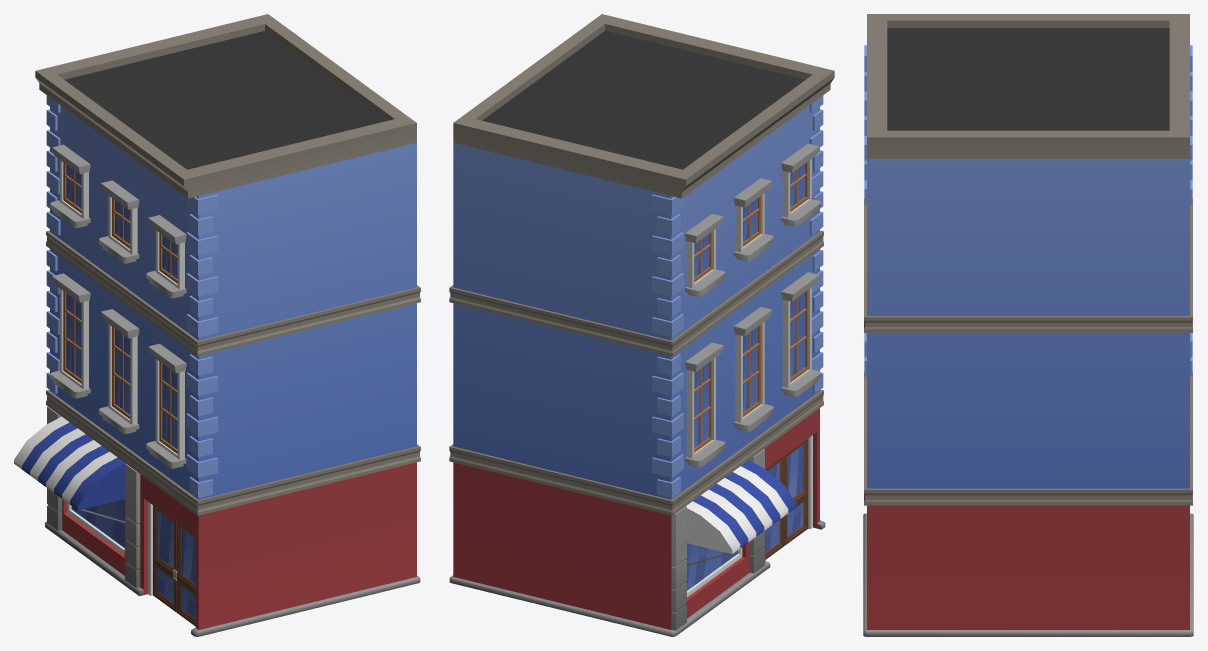
Rendered from Building_8_1_O.fbx.
3 views of the same model, side by side, from view 1: azimuth 30°, elevation 25°; view 2: azimuth 150°, elevation 25°; view 3: azimuth 270°, elevation 25° (orthographic). The views are drawn at different scales.
Parts seen in each view (by area): view 1: Building 8_1_O; view 2: Building 8_1_O; view 3: Building 8_1_O.
Boxes of the visible parts, x1=… form: Building 8_1_O: x1=14, y1=14, x2=420, y2=636; Building 8_1_O: x1=449, y1=14, x2=834, y2=636; Building 8_1_O: x1=863, y1=14, x2=1193, y2=636.
Size of the model in its own units: 681 by 1108 by 667.
